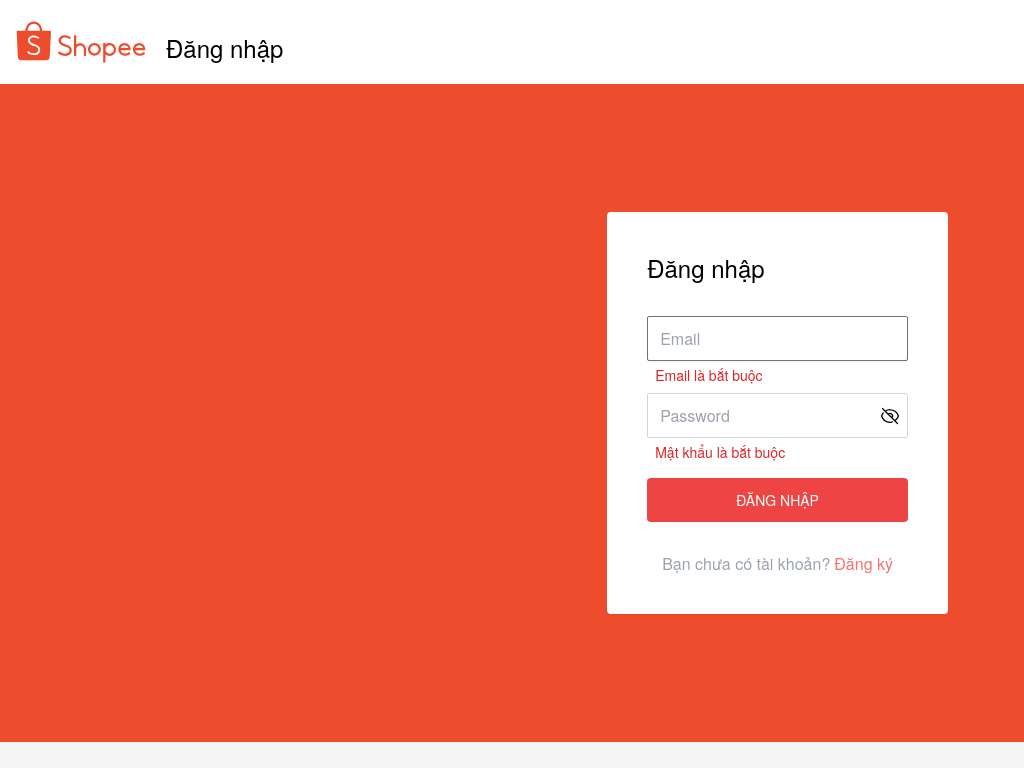
Test: Test Login page › Display error when user typed wrong value
The width and height of the screenshot is (1024, 768).
Type "test@mail" into the field with placeholder "Email" at (778,339), box left=647, top=316, right=908, bottom=361
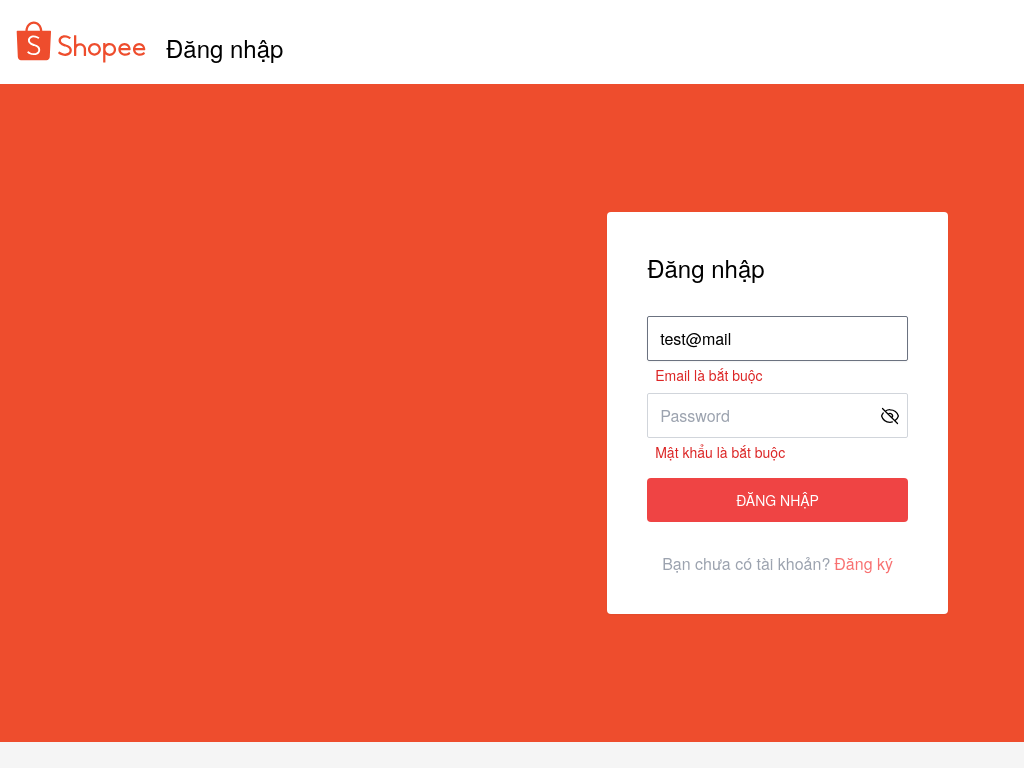
Type "123" into the password field with placeholder "Password" at (778,416), box left=647, top=393, right=908, bottom=438
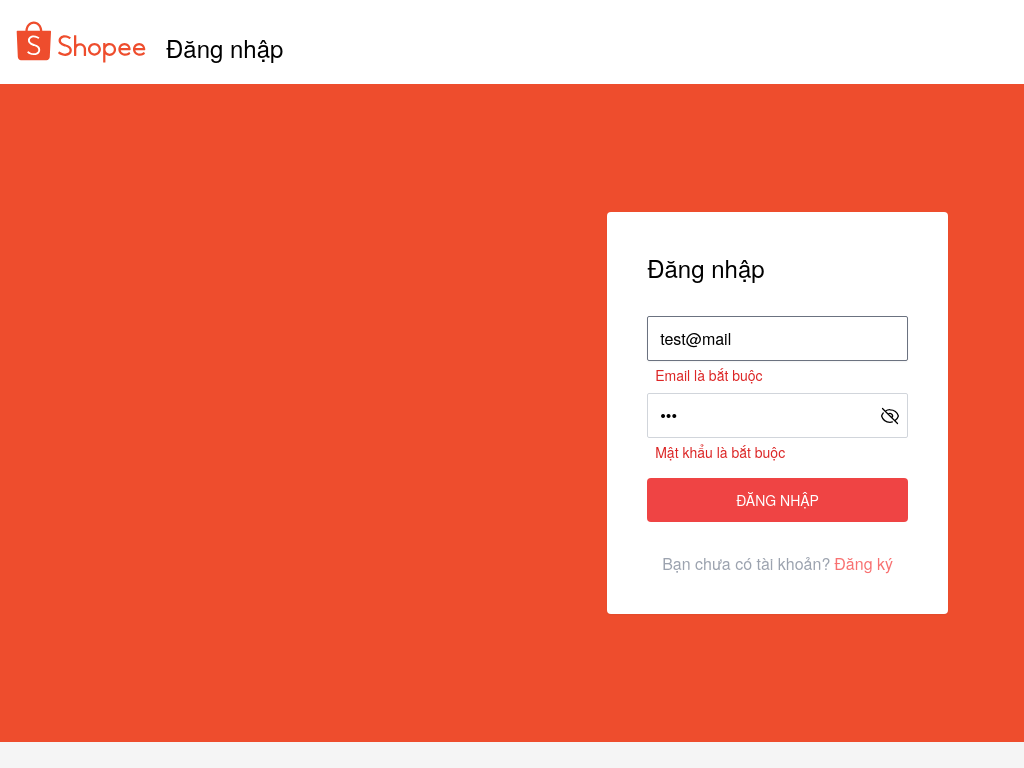
Submit the form from the submit button, box left=647, top=478, right=908, bottom=522
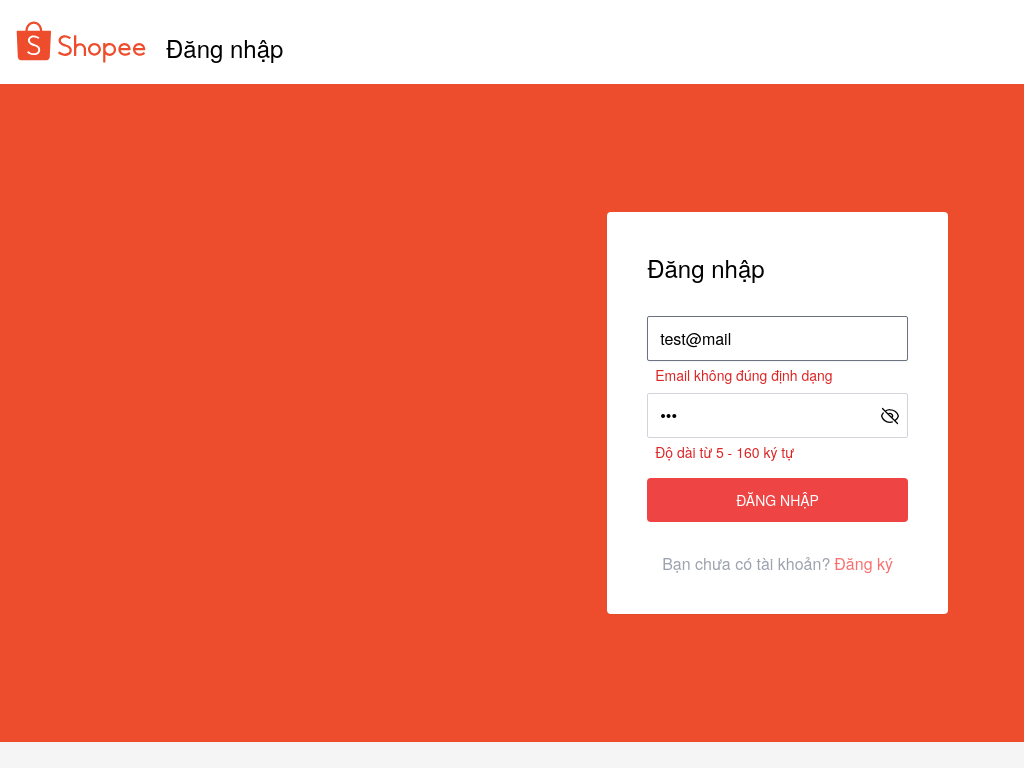
Expected: the text "Email không đúng định dạng" is shown, left=655, top=365, right=833, bottom=385
Expected: the text "Độ dài từ 5 - 160 ký tự" is shown, left=655, top=442, right=794, bottom=462
